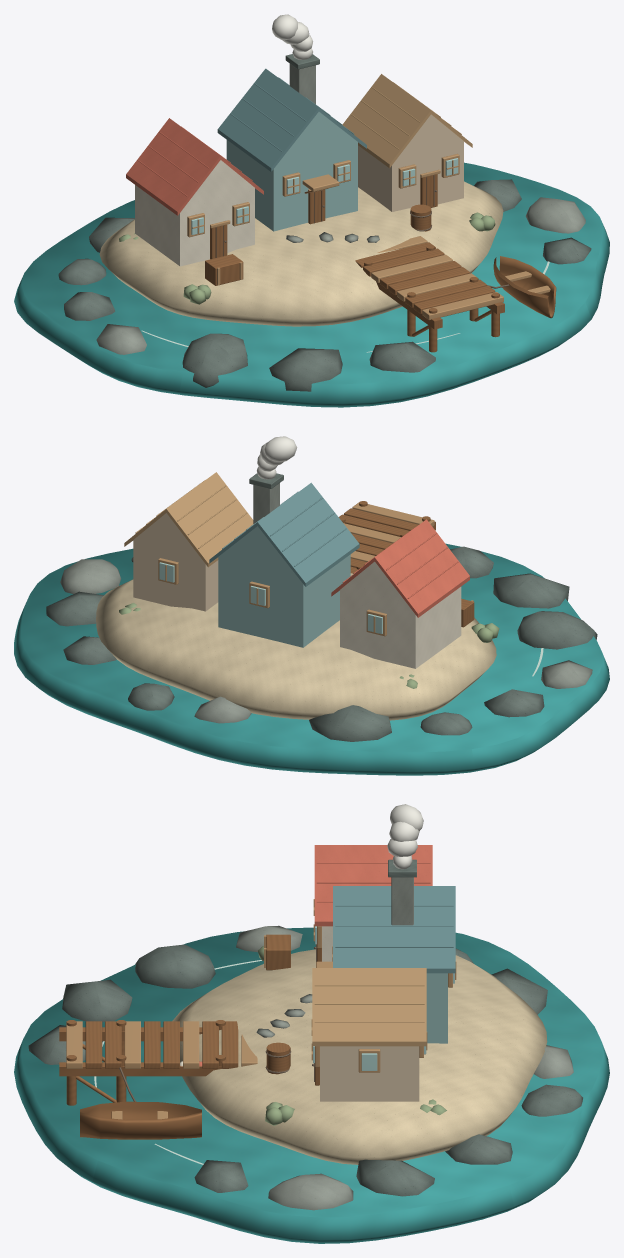
Rendered from fishing-village-v4.glb.
3 renders of one model, top to bottom at view 1: azimuth 30°, elevation 25°; view 2: azimuth 150°, elevation 25°; view 3: azimuth 270°, elevation 25°, orthographic. The views are drawn at different scales.
Parts seen in each view (by area): view 1: Village | collectible export; view 2: Village | collectible export; view 3: Village | collectible export.
Part boxes in pixels (<box>): Village | collectible export: <box>14,14,609,407</box>; Village | collectible export: <box>14,436,609,775</box>; Village | collectible export: <box>14,804,609,1243</box>.
Size of the model in its own units: 1.71 by 0.7825 by 1.44.
17 materials, 7 textured.
